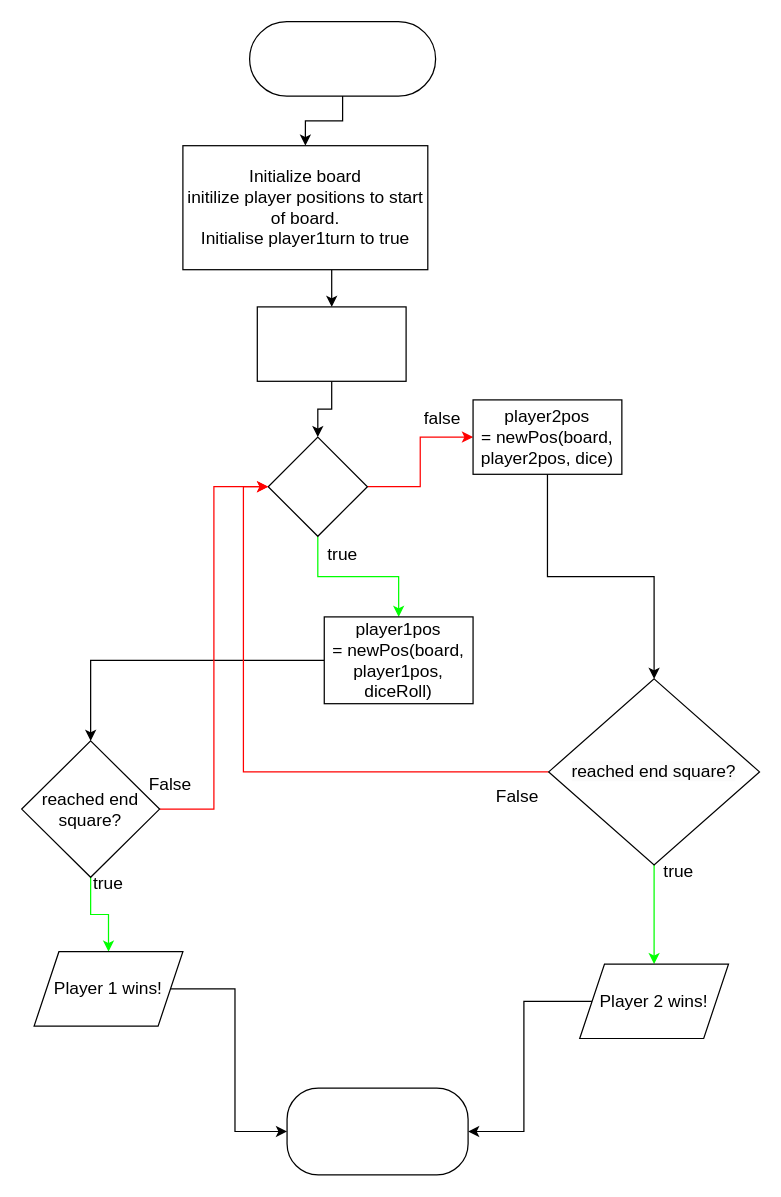
This 781x1197 diagram has some shape labels left out. Here are the shapes that lost their labels. From the top down, the box of each, then its label:
(248, 20, 436, 96): PROGRAM START
(256, 306, 406, 381): dice = rand() % 6 + 1
(267, 436, 367, 536): Player 1 turn
(286, 1087, 468, 1175): PROGRAM END
